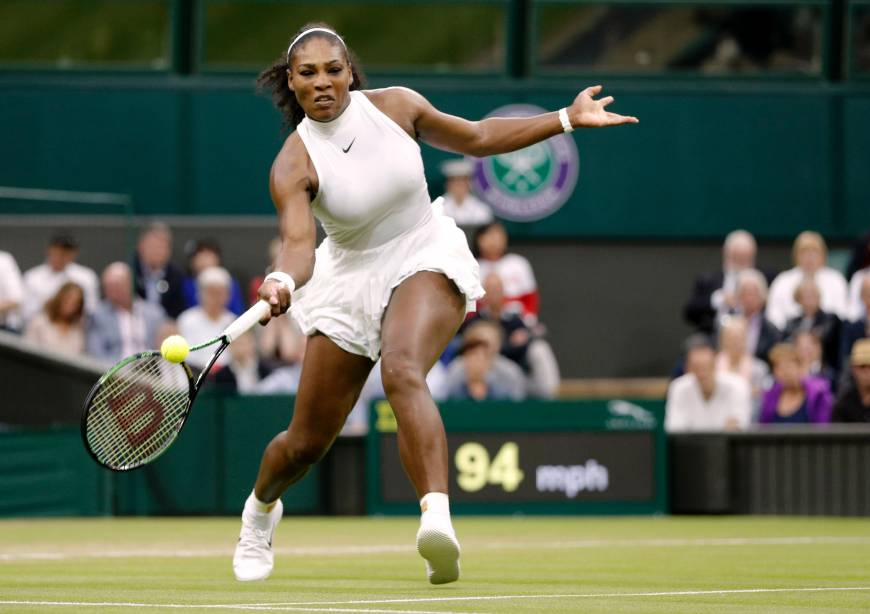tennis ball: (158, 329, 196, 368)
tennis player: (223, 19, 642, 591)
